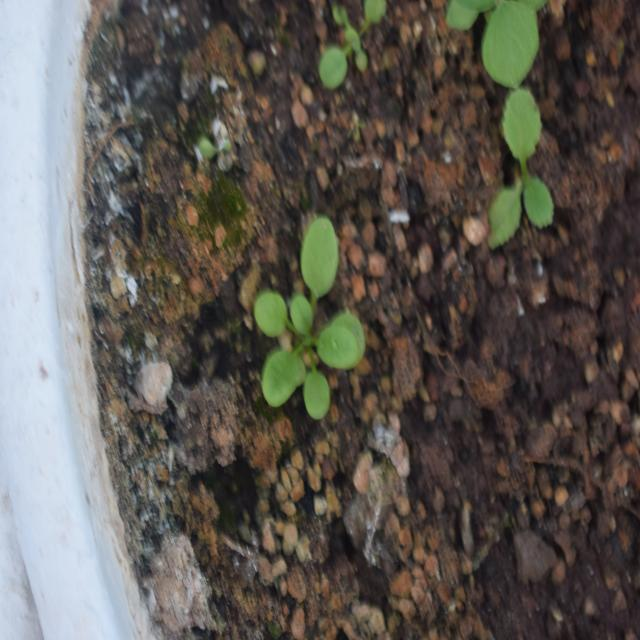Shepherd_Purse: (238, 191, 366, 429)
